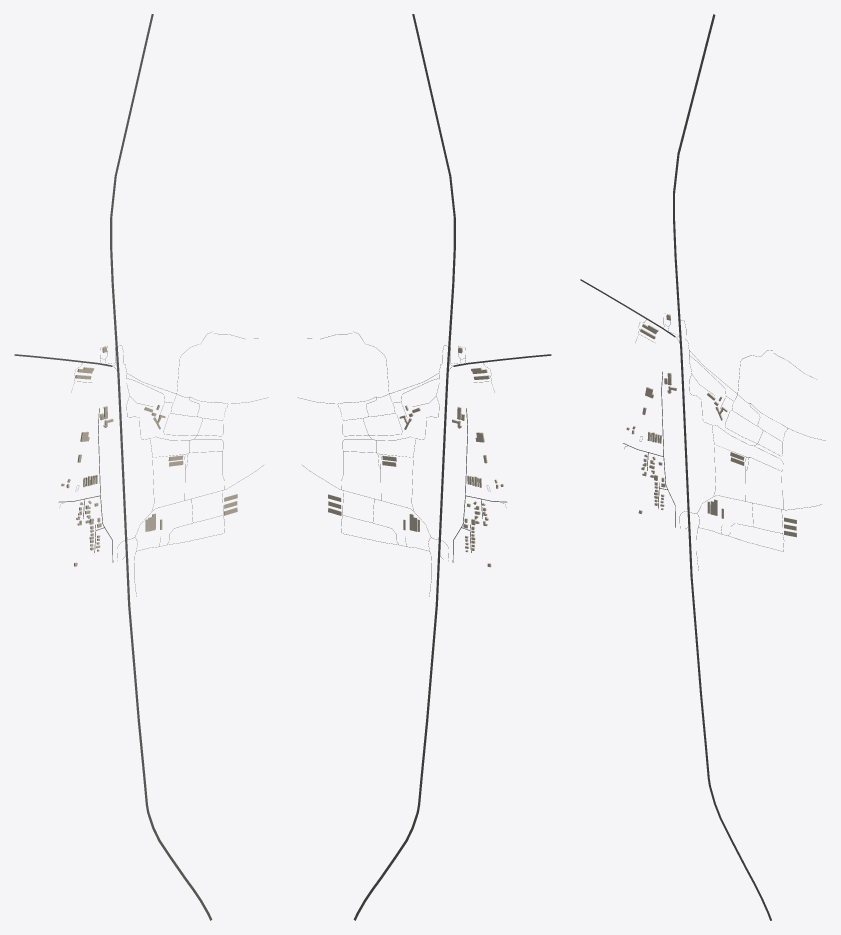
File: historic-palestine-07_28_3488_3221.glb
3 renders of one model, left to right at view 1: azimuth 30°, elevation 25°; view 2: azimuth 150°, elevation 25°; view 3: azimuth 330°, elevation 25°, orthographic. The views are drawn at different scales.
Parts seen in each view (by area): view 1: Road כביש חיפה רעננה; view 2: Road כביש חיפה רעננה; view 3: Road כביש חיפה רעננה.
Boxes of the visible parts, bbox=[...] form: Road כביש חיפה רעננה: bbox=[110, 14, 212, 920]; Road כביש חיפה רעננה: bbox=[353, 14, 455, 920]; Road כביש חיפה רעננה: bbox=[673, 14, 771, 920].
Bounding box in the file's own units: 1370 × 4742 × 8.7.
